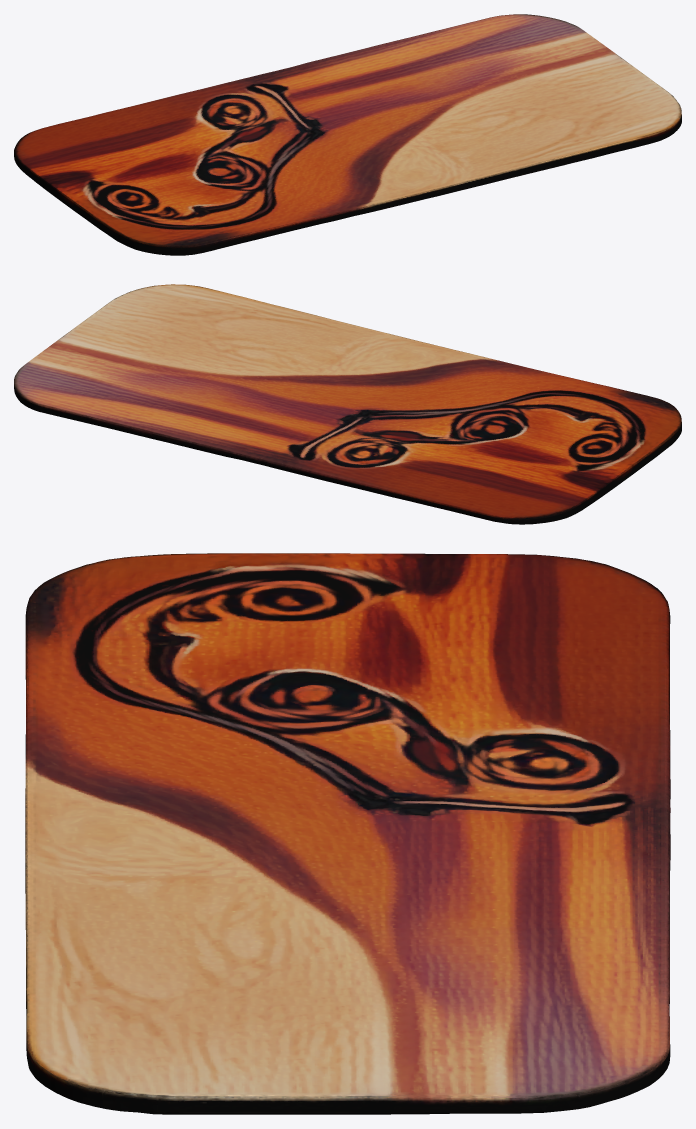
The model's file is wooden-tie-clip-vintage.jpeg.glb.
3 renders of one model, top to bottom at view 1: azimuth 30°, elevation 25°; view 2: azimuth 150°, elevation 25°; view 3: azimuth 270°, elevation 25°, orthographic. The views are drawn at different scales.
Parts seen in each view (by area): view 1: world; view 2: world; view 3: world.
Boxes of the visible parts, x1,y1,x2,y2 form: world: (14,14,681,255); world: (14,284,681,524); world: (25,553,670,1114).
Size of the model in its own units: 1 by 0.0168 by 0.5006.
Materials: 1 (1 with a texture image).
